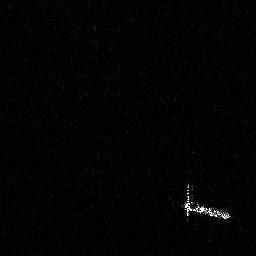ship: (179, 181, 231, 223)
